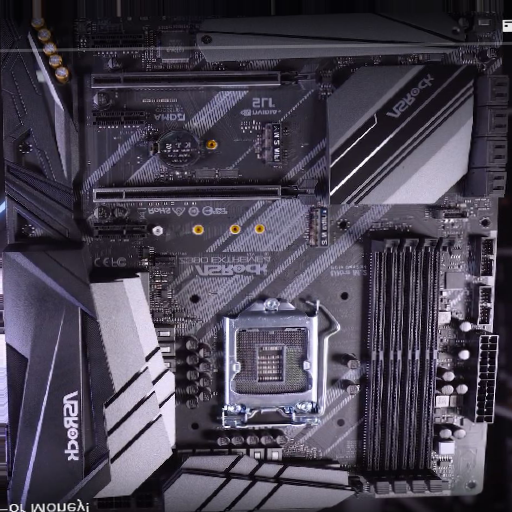CPU: (222, 295, 325, 420)
GPU: (90, 178, 319, 210), (86, 62, 319, 92)
MOTHERBOARD: (4, 5, 497, 503)
RAM: (361, 232, 450, 498)
SSD: (258, 119, 286, 167), (308, 206, 329, 248)
